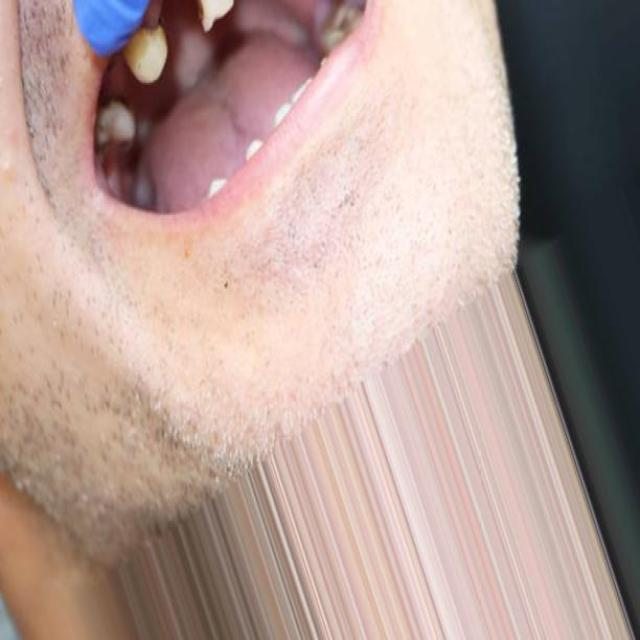caries: (95, 102, 147, 196), (122, 22, 172, 85), (314, 0, 366, 50), (188, 0, 244, 31)
